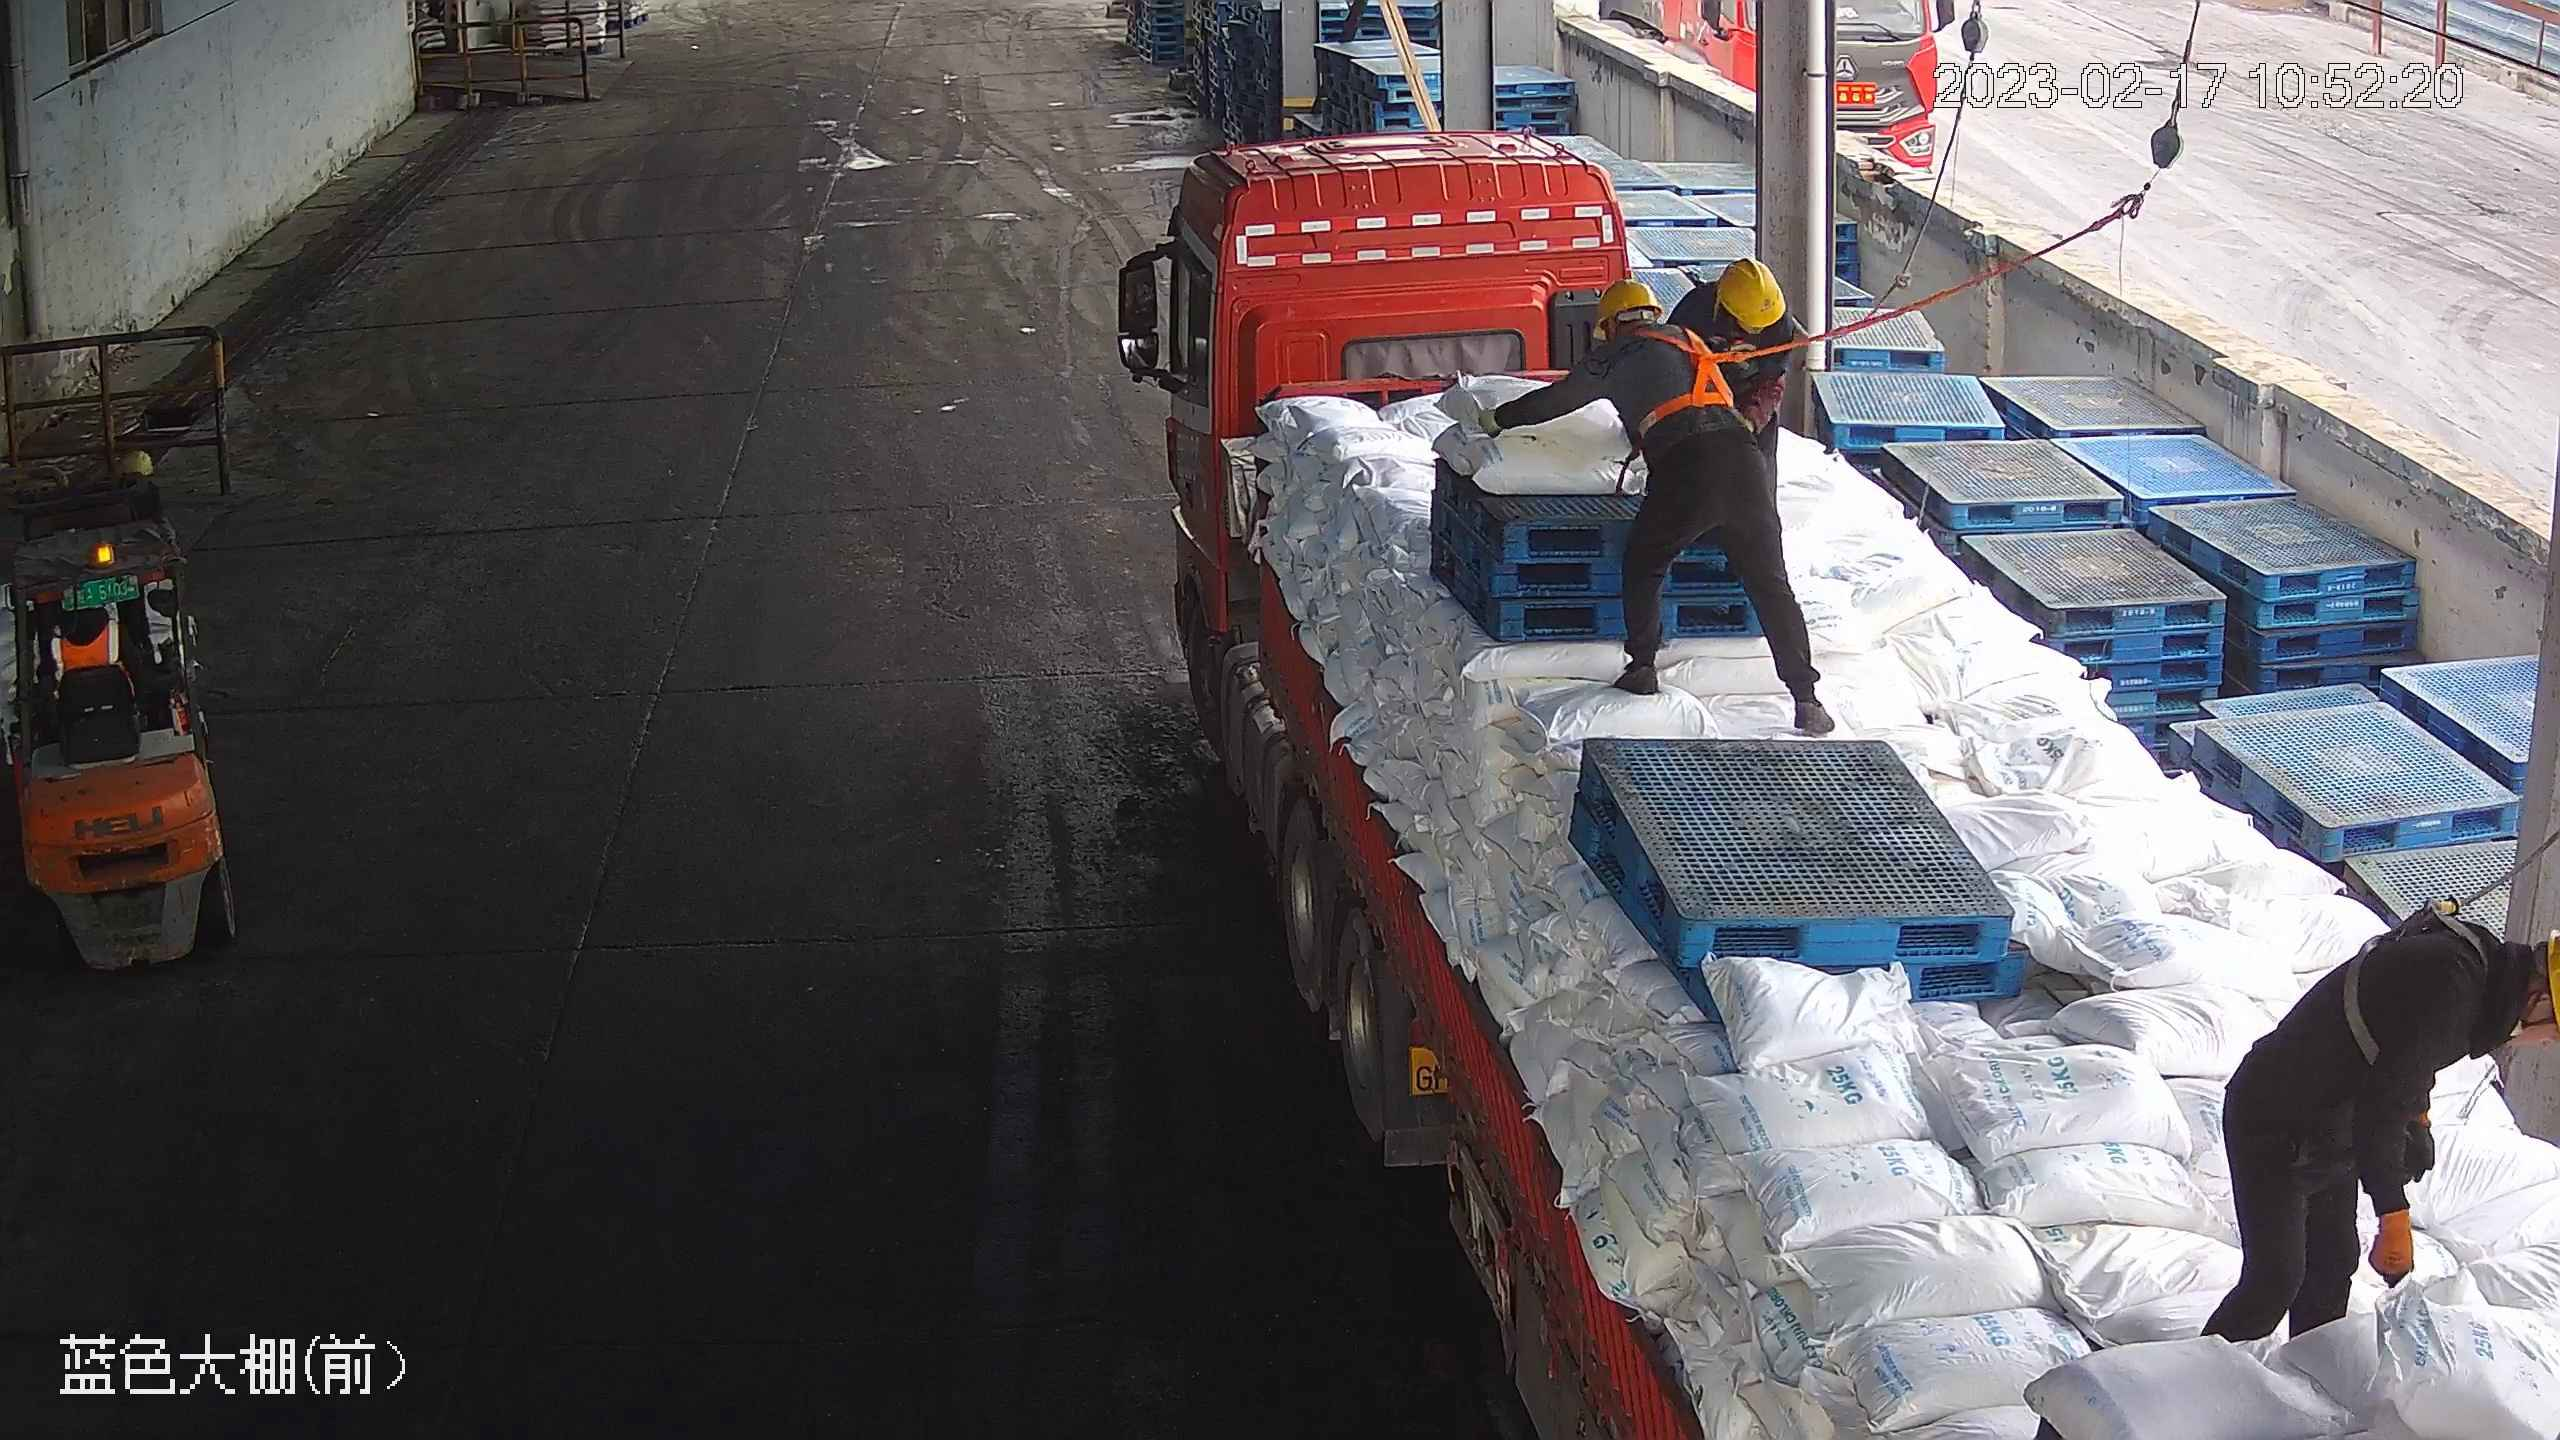belt: (2333, 895, 2502, 1067), (1619, 323, 1751, 432)
head: (2384, 910, 2560, 1076), (1577, 277, 1718, 380), (1670, 260, 1800, 354)
helmet: (1713, 256, 1786, 330), (1590, 277, 1662, 333)
people: (1480, 275, 1837, 725), (2202, 903, 2559, 1348)
truck: (1113, 122, 2550, 1438)
